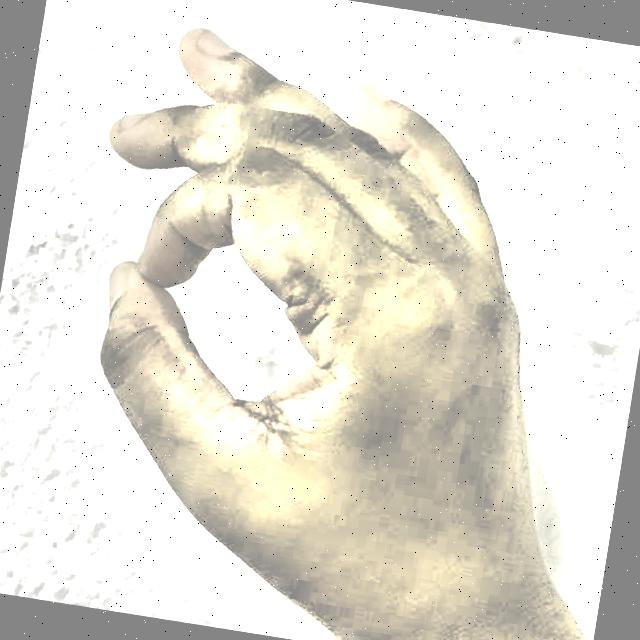Yo: (15, 0, 630, 640)
